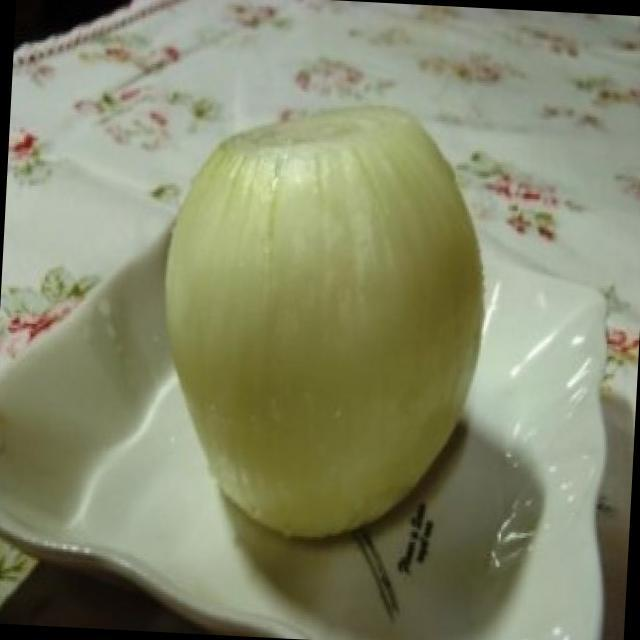Onion: (170, 114, 486, 532)
